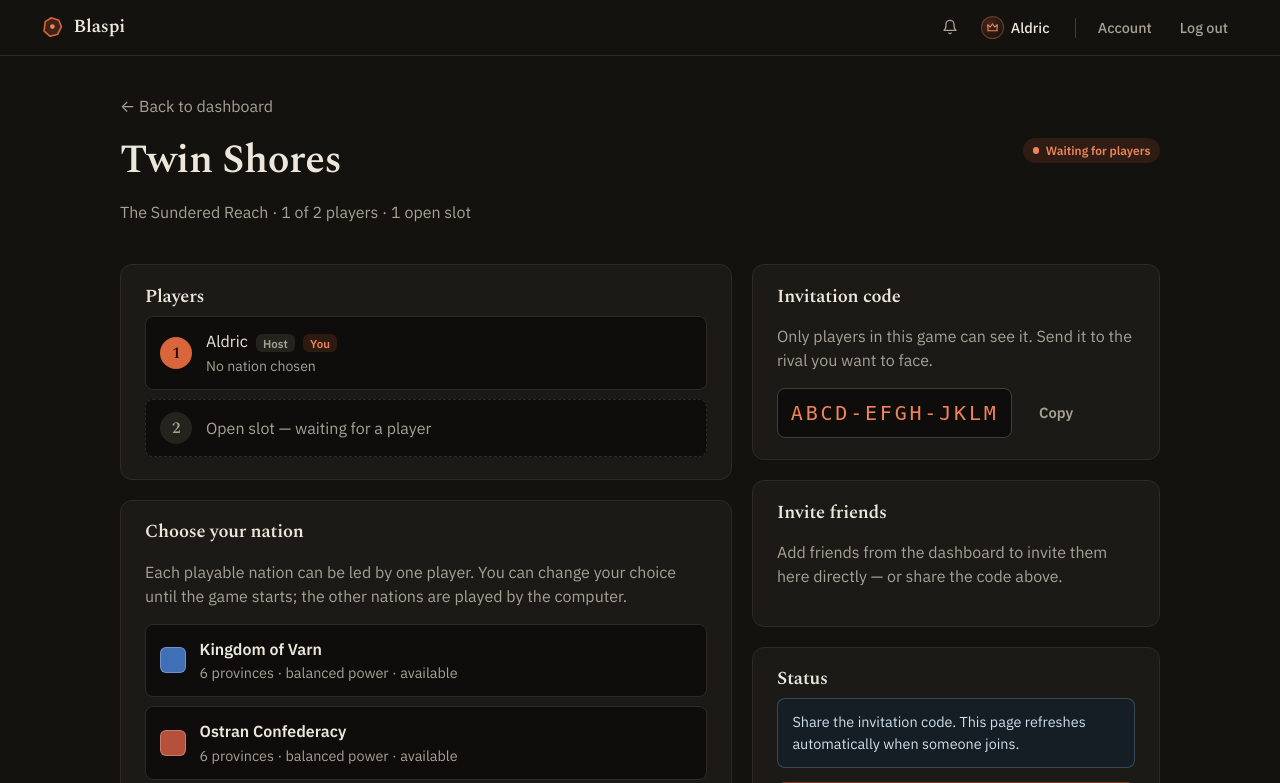
Test case: LobbyPage › lets a player choose an available nation
The width and height of the screenshot is (1280, 783).
Click the button "Kingdom of Varn 6 provinces · balanced power · available": (426, 660) x1=145 y1=624 x2=707 y2=697
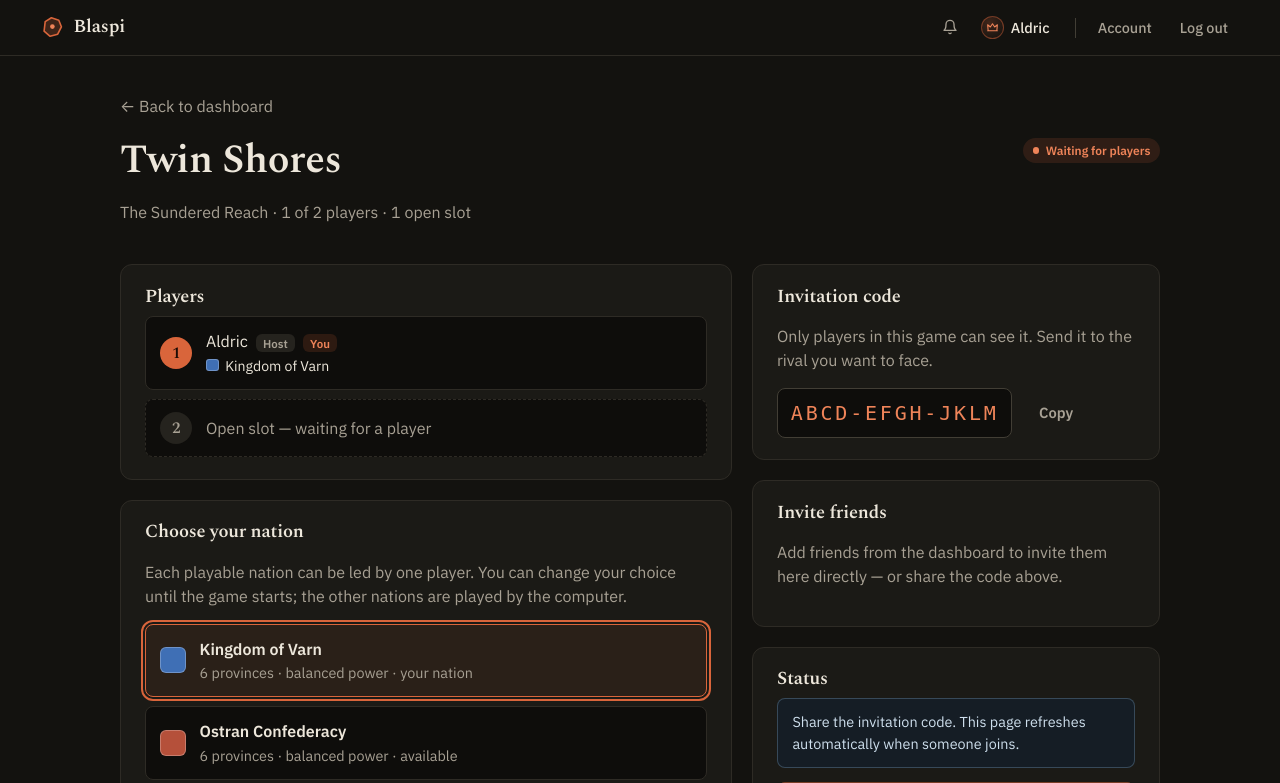
expect the button "Kingdom of Varn 6 provinces · balanced power · your nation" is pressed: met, box x1=145 y1=624 x2=707 y2=697
